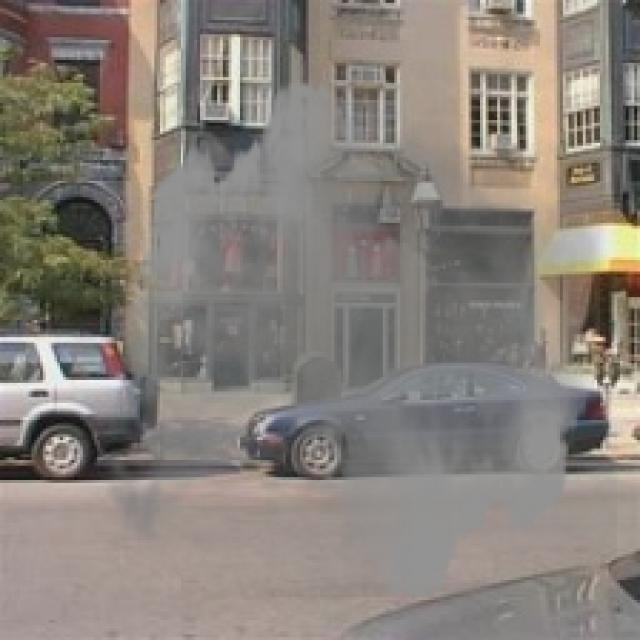Smoke: (88, 62, 618, 618)
